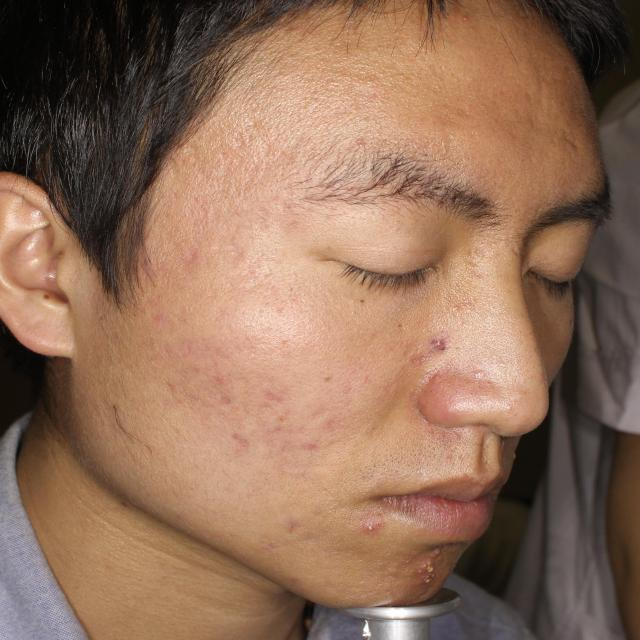acne: (298, 434, 328, 462), (203, 358, 229, 389), (412, 554, 438, 576), (227, 424, 251, 446), (363, 516, 385, 536), (270, 388, 289, 410), (425, 539, 447, 557), (412, 576, 437, 590)
